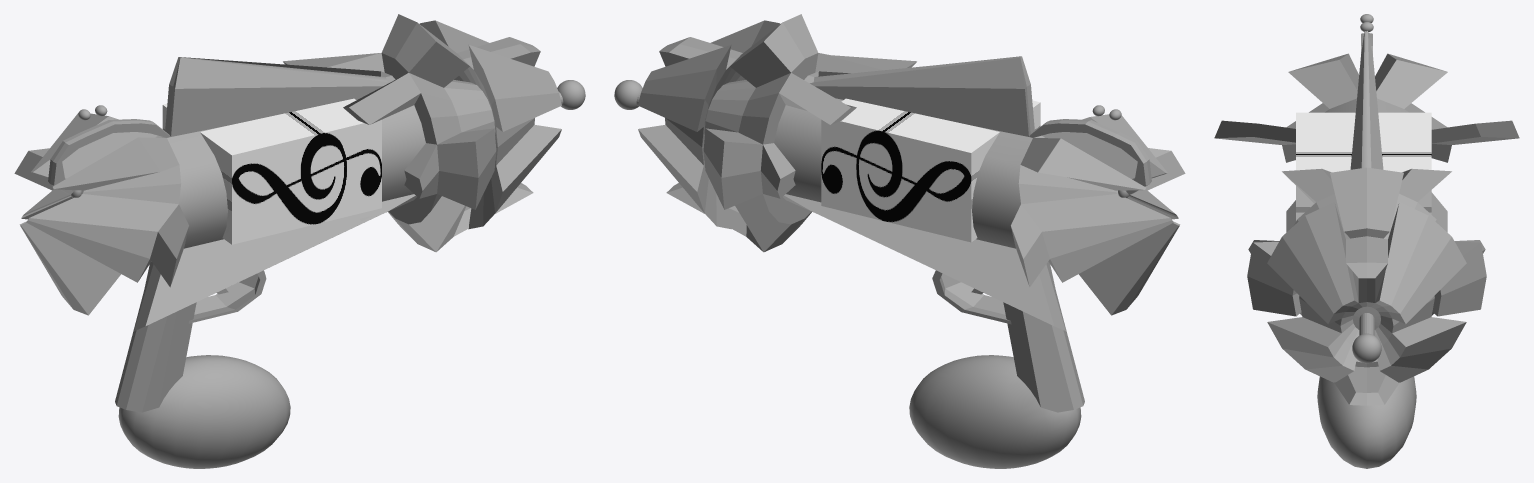
Rendered from prop_lasergun.fbx.
3 renders of one model, left to right at view 1: azimuth 30°, elevation 25°; view 2: azimuth 150°, elevation 25°; view 3: azimuth 270°, elevation 25°, orthographic. The views are drawn at different scales.
Visible parts, largest first — view 1: polySurface1; view 2: polySurface1; view 3: polySurface1.
Boxes of the visible parts, x1,y1,x2,y2 form: polySurface1: [14, 14, 585, 468]; polySurface1: [614, 14, 1185, 468]; polySurface1: [1214, 14, 1519, 468].
Bounding box in the file's own units: 6.11 × 4.3 × 2.93.
2 materials, 1 textured.
